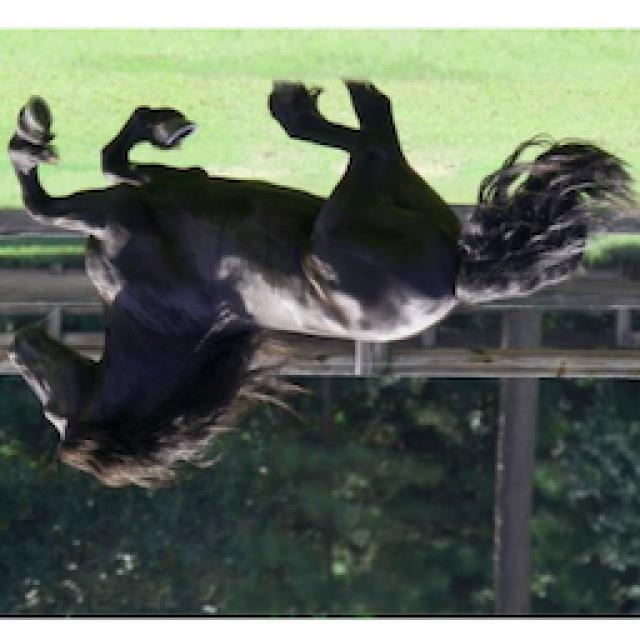Horse: (2, 75, 640, 498)
